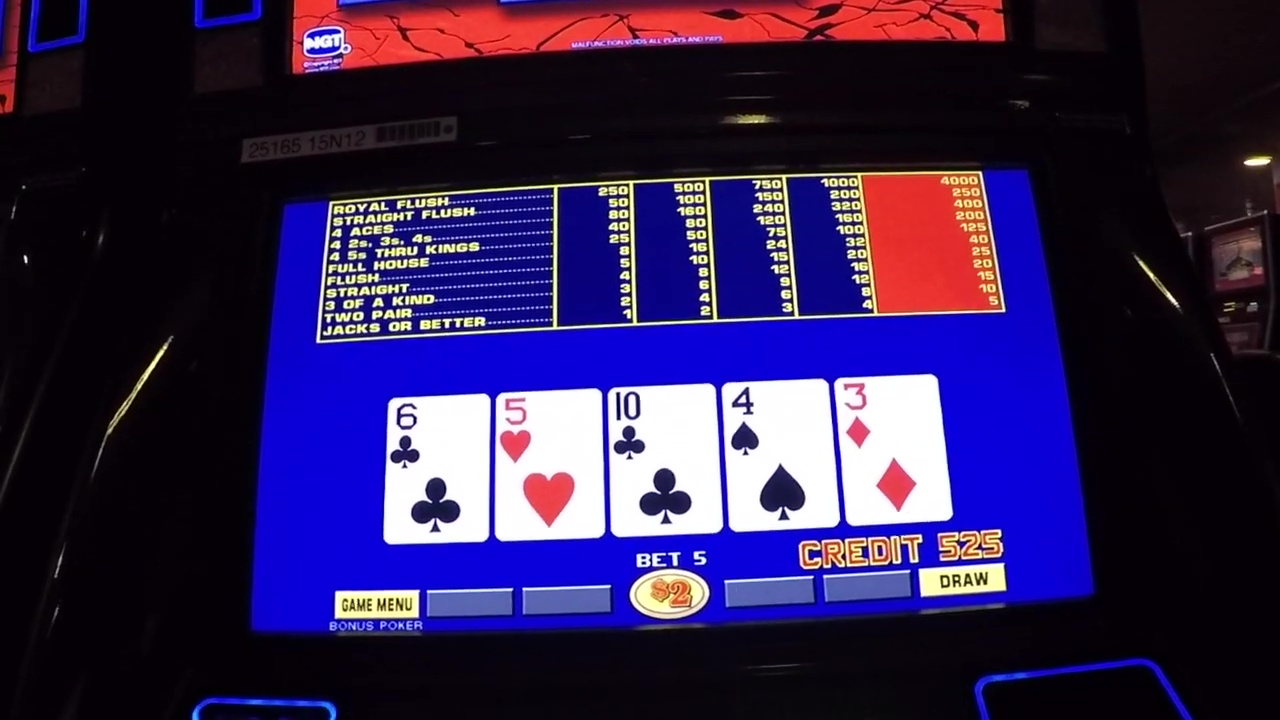C6: (390, 399, 491, 470)
CT: (610, 389, 715, 464)
D3: (839, 380, 935, 451)
H5: (498, 393, 601, 469)
S4: (723, 382, 827, 461)
